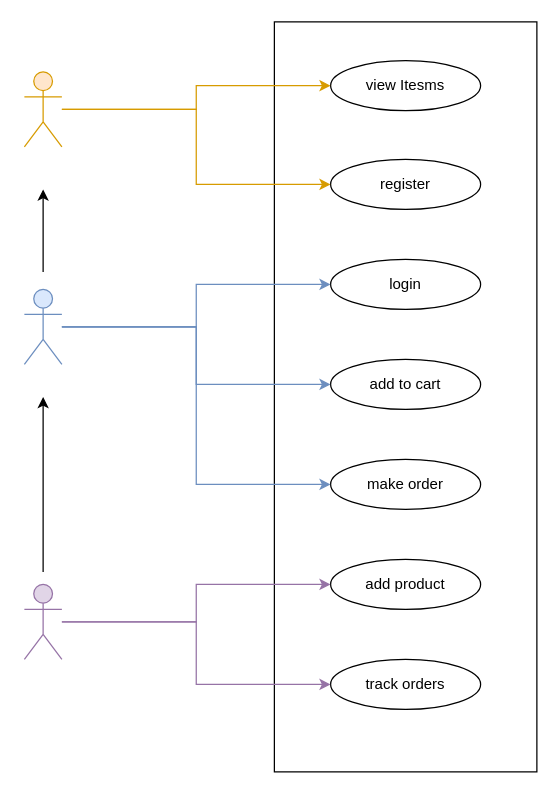
Image size: 559x794. Some labels were removed from this diagram. Each missing label, with the box of its shape:
Admin: (23, 583, 62, 659)
User: (23, 288, 62, 364)
Visitor: (23, 71, 62, 147)
